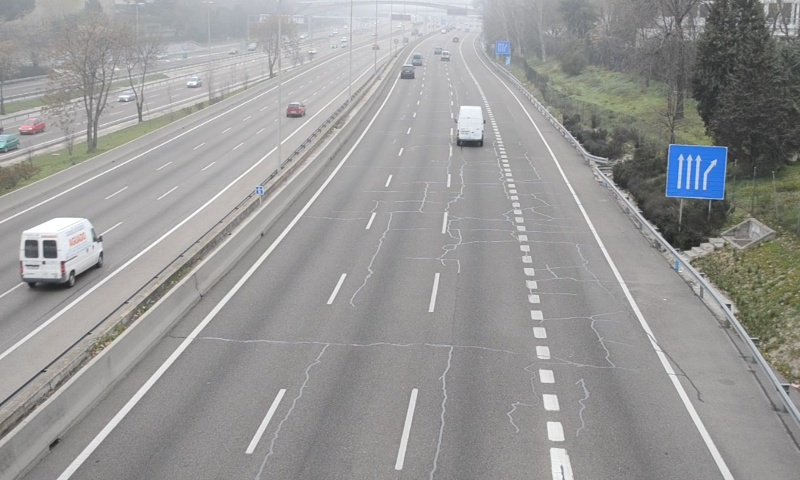car: (400, 64, 414, 80)
van: (454, 104, 485, 145)
